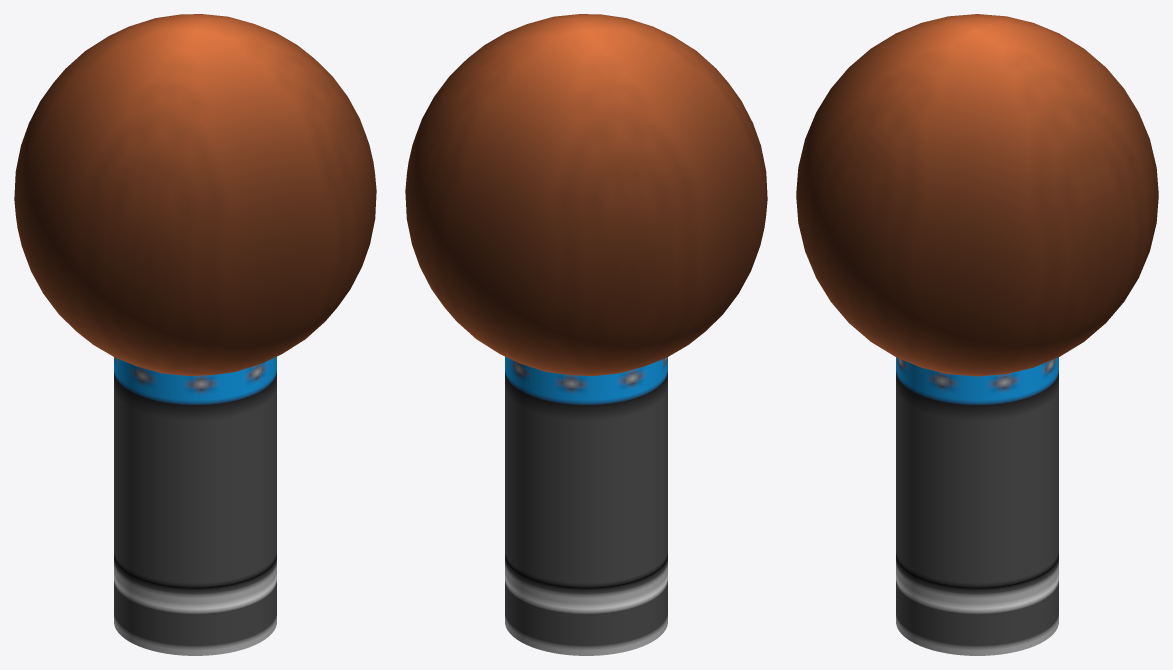
The model's file is roller4s.obj.
3 renders of one model, left to right at view 1: azimuth 30°, elevation 25°; view 2: azimuth 150°, elevation 25°; view 3: azimuth 270°, elevation 25°, orthographic.
Parts seen in each view (by area): view 1: ColobotMesh_1.002_ColobotMesh_.002, ColobotMesh_1.001_ColobotMesh_.001; view 2: ColobotMesh_1.002_ColobotMesh_.002, ColobotMesh_1.001_ColobotMesh_.001; view 3: ColobotMesh_1.002_ColobotMesh_.002, ColobotMesh_1.001_ColobotMesh_.001.
Part boxes in pixels (bbox=[...]): ColobotMesh_1.002_ColobotMesh_.002: bbox=[14, 14, 376, 375]; ColobotMesh_1.001_ColobotMesh_.001: bbox=[114, 356, 276, 655]; ColobotMesh_1.002_ColobotMesh_.002: bbox=[405, 14, 767, 375]; ColobotMesh_1.001_ColobotMesh_.001: bbox=[505, 356, 667, 655]; ColobotMesh_1.002_ColobotMesh_.002: bbox=[796, 14, 1158, 376]; ColobotMesh_1.001_ColobotMesh_.001: bbox=[896, 357, 1058, 655].
Size of the model in its own units: 4 by 7.19 by 4.
